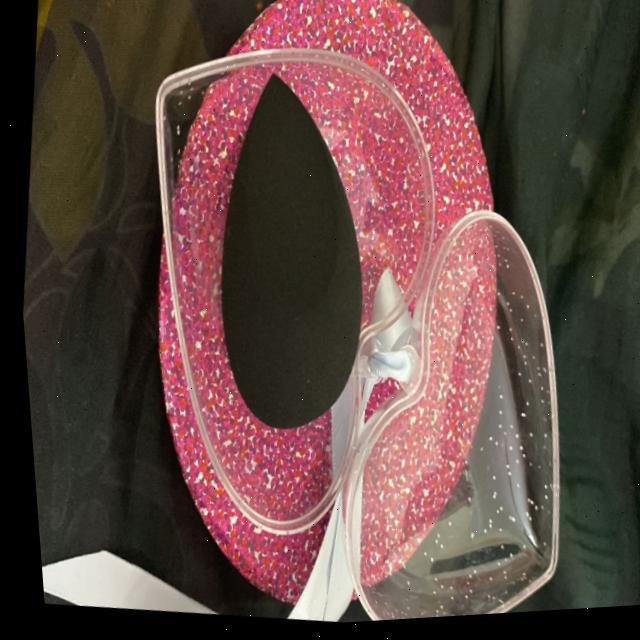beauty blender: (170, 64, 400, 466)
